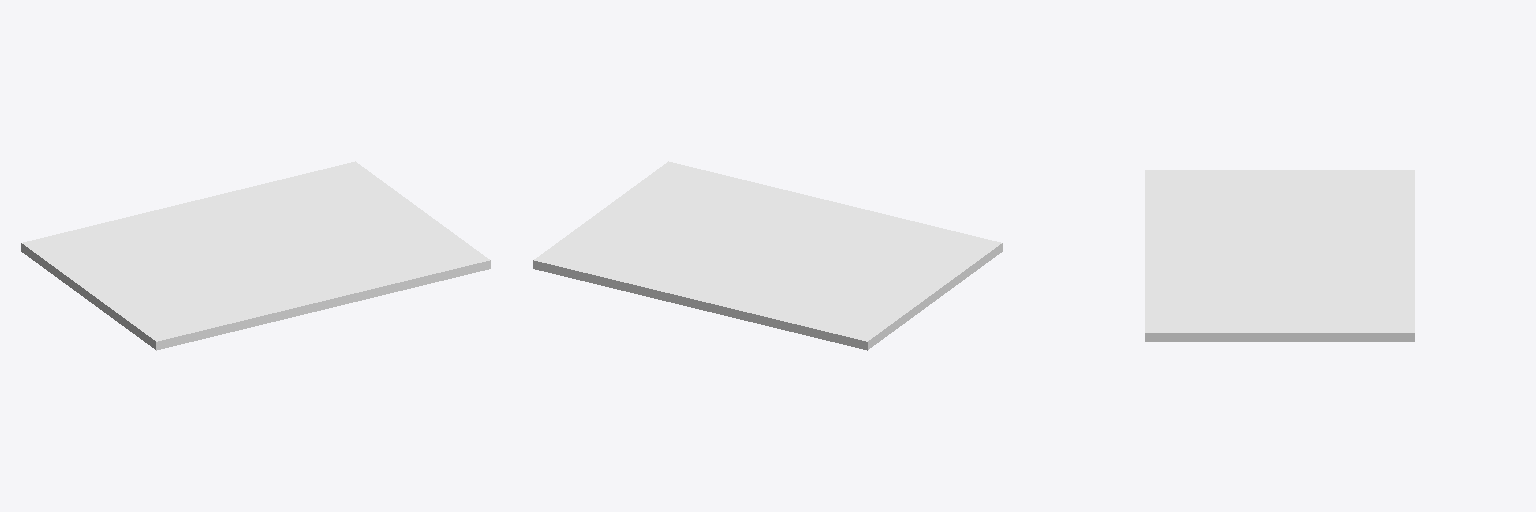
File: 4lan.obj
3 views of the same model, side by side, from view 1: azimuth 30°, elevation 25°; view 2: azimuth 150°, elevation 25°; view 3: azimuth 270°, elevation 25° (orthographic).
Parts seen in each view (by area): view 1: object 1; view 2: object 1; view 3: object 1.
Part boxes in pixels (left/top/right/bottom): object 1: left=21, top=161, right=490, bottom=350; object 1: left=533, top=161, right=1002, bottom=350; object 1: left=1145, top=170, right=1414, bottom=341.
Size of the model in its own units: 4 by 0.1 by 2.8.